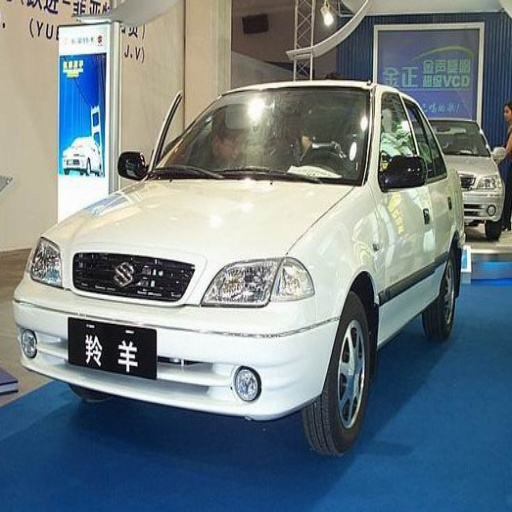front_bumper: (12, 245, 337, 420)
front_glass: (144, 88, 370, 184)
front_left_door: (375, 95, 427, 333)
front_right_light: (27, 237, 66, 288)
